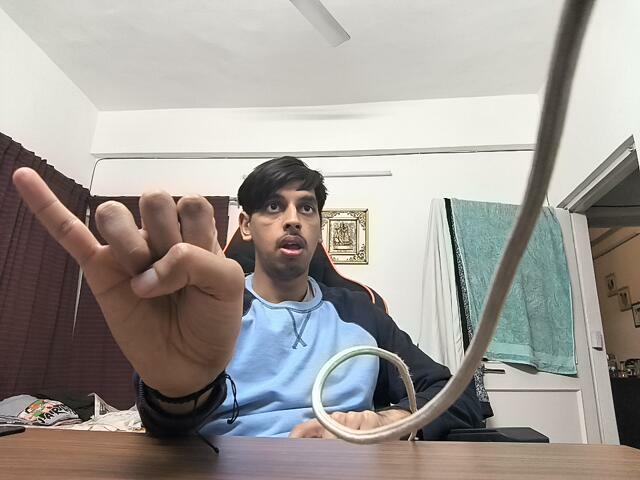RIGHT: (12, 139, 253, 382)
